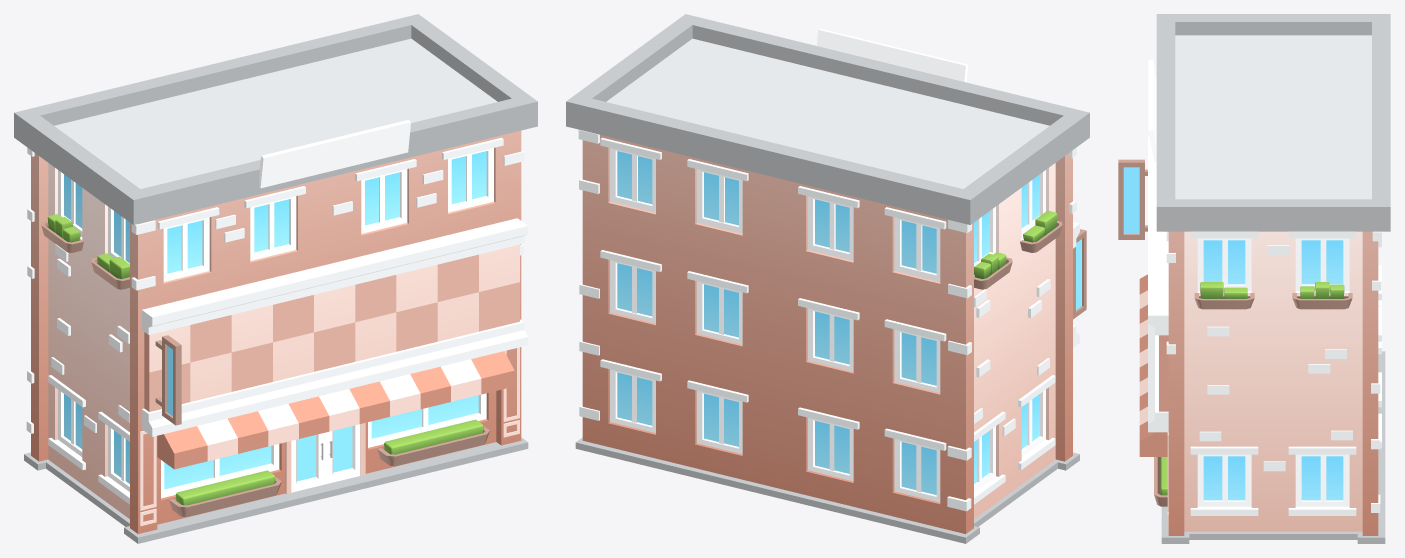
Rendered from Building_Living_23.glb.
3 views of the same model, side by side, from view 1: azimuth 30°, elevation 25°; view 2: azimuth 150°, elevation 25°; view 3: azimuth 270°, elevation 25° (orthographic). The views are drawn at different scales.
Parts seen in each view (by area): view 1: Building_Living_23; view 2: Building_Living_23; view 3: Building_Living_23.
Part boxes in pixels (x1=…): Building_Living_23: x1=14, y1=14, x2=537, y2=543; Building_Living_23: x1=566, y1=14, x2=1089, y2=543; Building_Living_23: x1=1118, y1=14, x2=1390, y2=543.
Bounding box in the file's own units: 13.39 × 11.47 × 7.98.
1 material, 1 textured.
